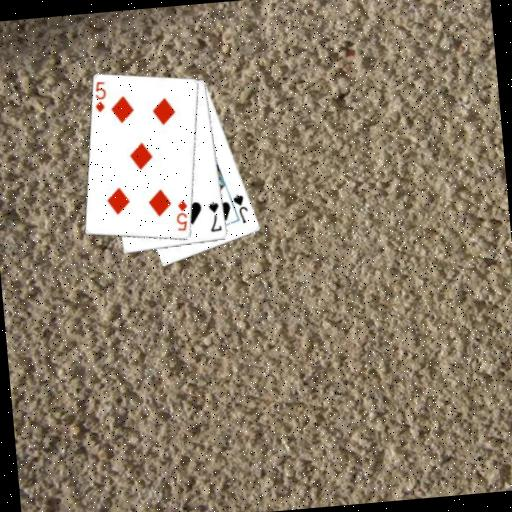5D: (90, 78, 110, 115), (172, 197, 191, 233)
7S: (206, 199, 224, 234)
JS: (230, 191, 251, 226)
